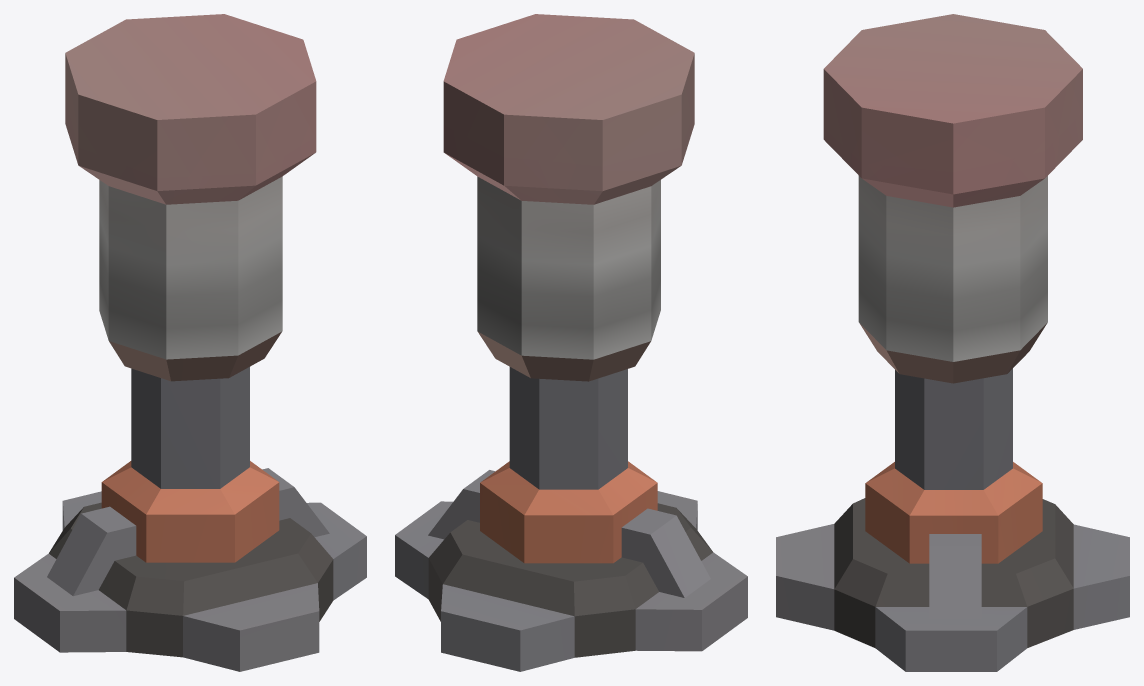
File: entity85342.glb
3 views of the same model, side by side, from view 1: azimuth 30°, elevation 25°; view 2: azimuth 150°, elevation 25°; view 3: azimuth 270°, elevation 25° (orthographic).
Visible parts, largest first — view 1: node_SM_Bld_Pod_Support_03 (2), node_SM_Bld_Pod_Support_03_Leg_01; view 2: node_SM_Bld_Pod_Support_03 (2), node_SM_Bld_Pod_Support_03_Leg_01; view 3: node_SM_Bld_Pod_Support_03 (2), node_SM_Bld_Pod_Support_03_Leg_01.
Boxes of the visible parts, <box> form: node_SM_Bld_Pod_Support_03 (2): <box>65,14,316,381</box>; node_SM_Bld_Pod_Support_03_Leg_01: <box>14,367,366,671</box>; node_SM_Bld_Pod_Support_03 (2): <box>443,14,694,381</box>; node_SM_Bld_Pod_Support_03_Leg_01: <box>395,367,747,671</box>; node_SM_Bld_Pod_Support_03 (2): <box>823,14,1082,383</box>; node_SM_Bld_Pod_Support_03_Leg_01: <box>776,368,1129,671</box>.
Size of the model in its own units: 1.69 by 2.8 by 1.69.
Materials: 1 (1 with a texture image).
